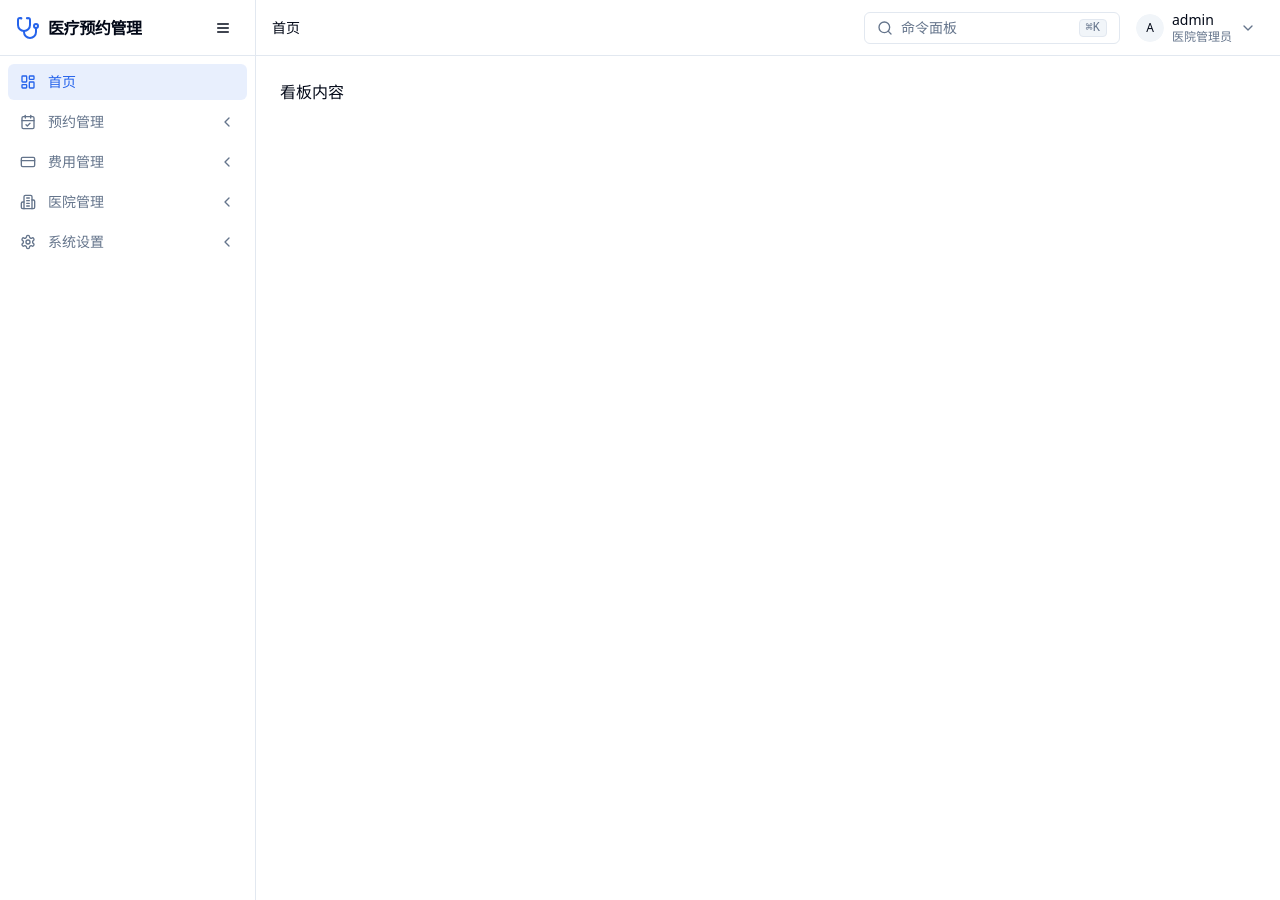
Test: AppLayout 桌面侧栏折叠按钮（卡片第 323 行「折叠」） › 点一下翻到折叠态：aside 变 w-16、标题消失；再点一下翻回来
Check: the text "医疗预约管理" is shown, box [48, 16, 142, 40]
What coordinates should you click on to do the following:
click the button named "折叠侧边栏"
I would click on:
 (223, 28)
Its box is [207, 12, 239, 44].
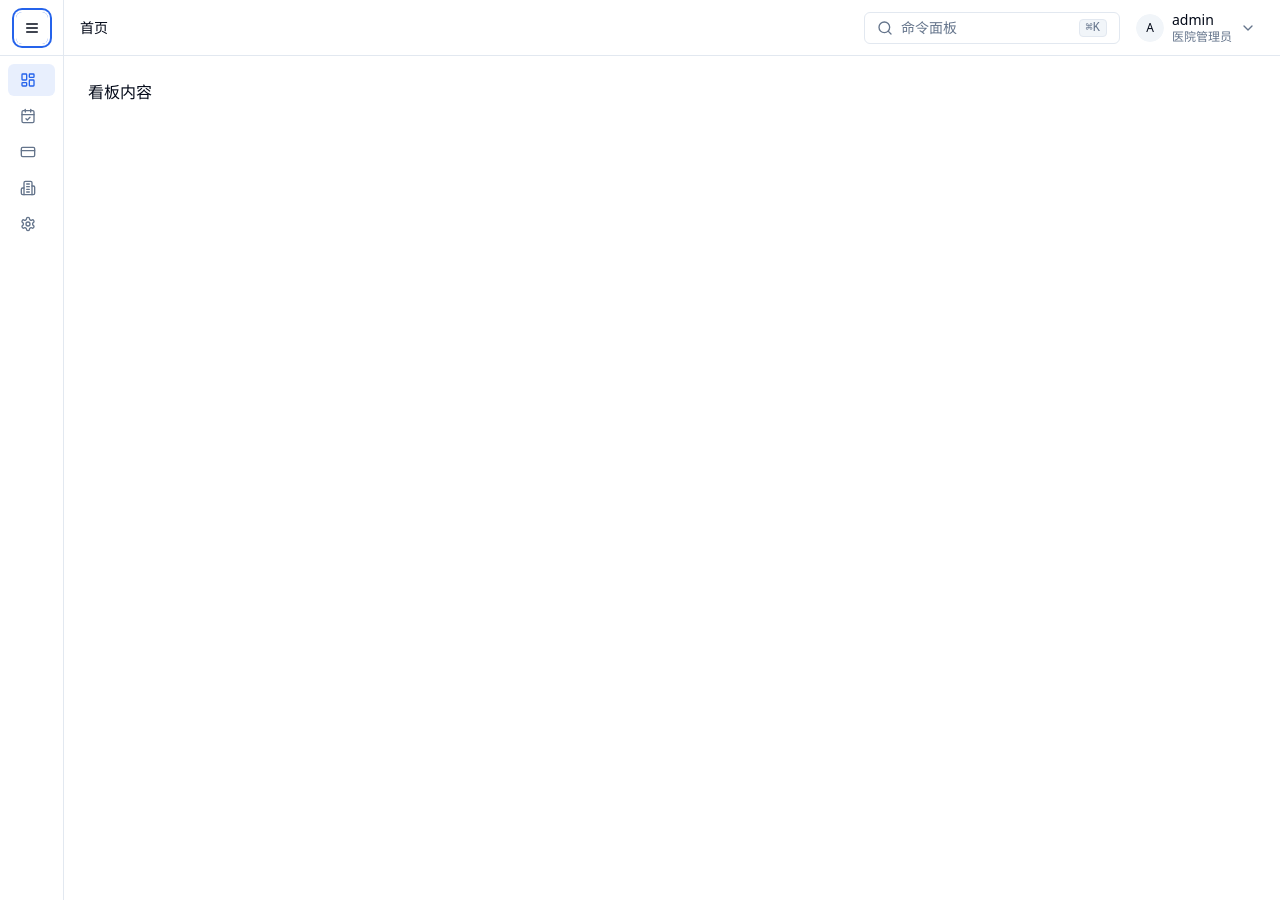
Check: the text "医疗预约管理" is gone
What coordinates should you click on to do the following:
click the button named "展开侧边栏"
I would click on:
 (32, 28)
Its box is [16, 12, 48, 44].
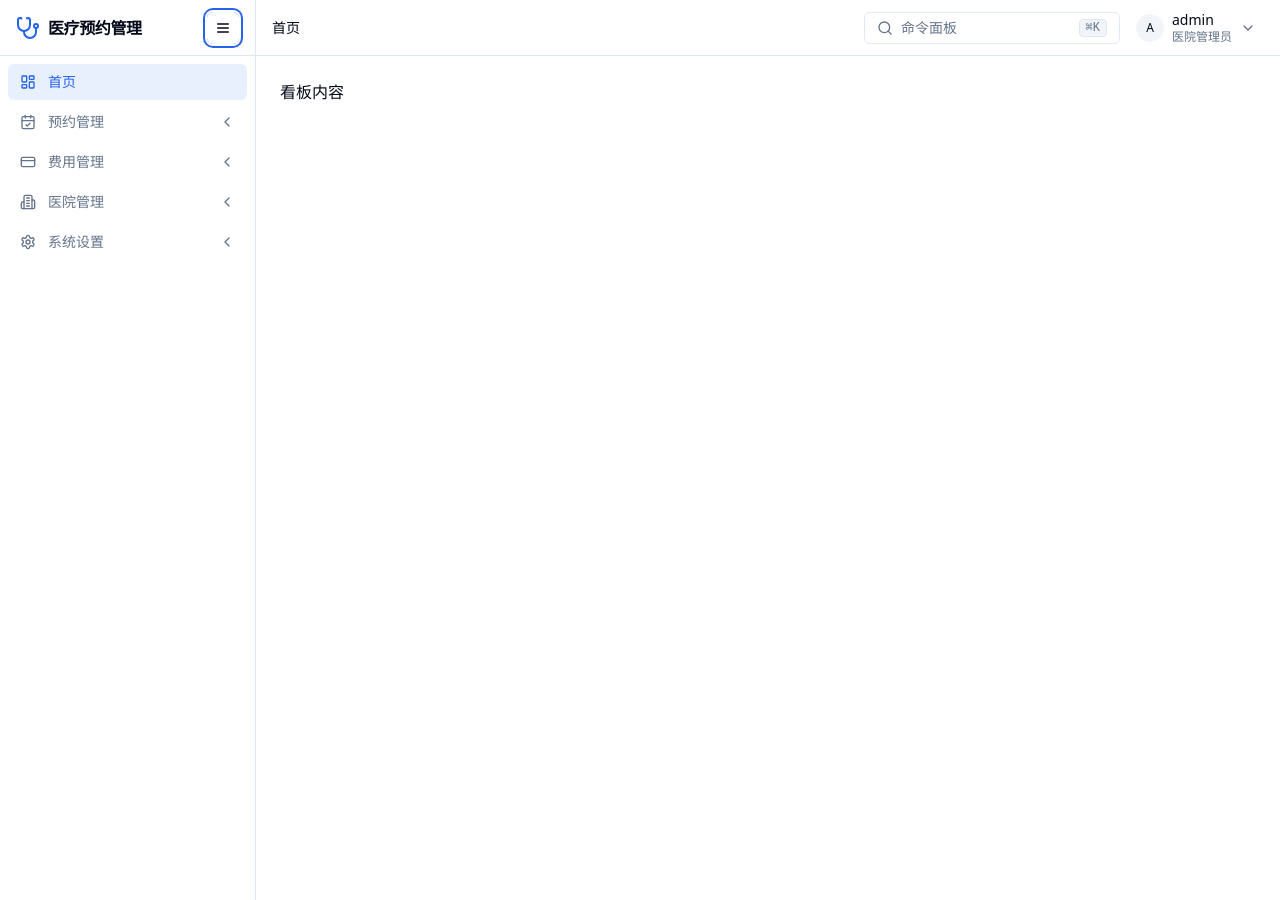
Check: the text "医疗预约管理" is shown, box [48, 16, 142, 40]
